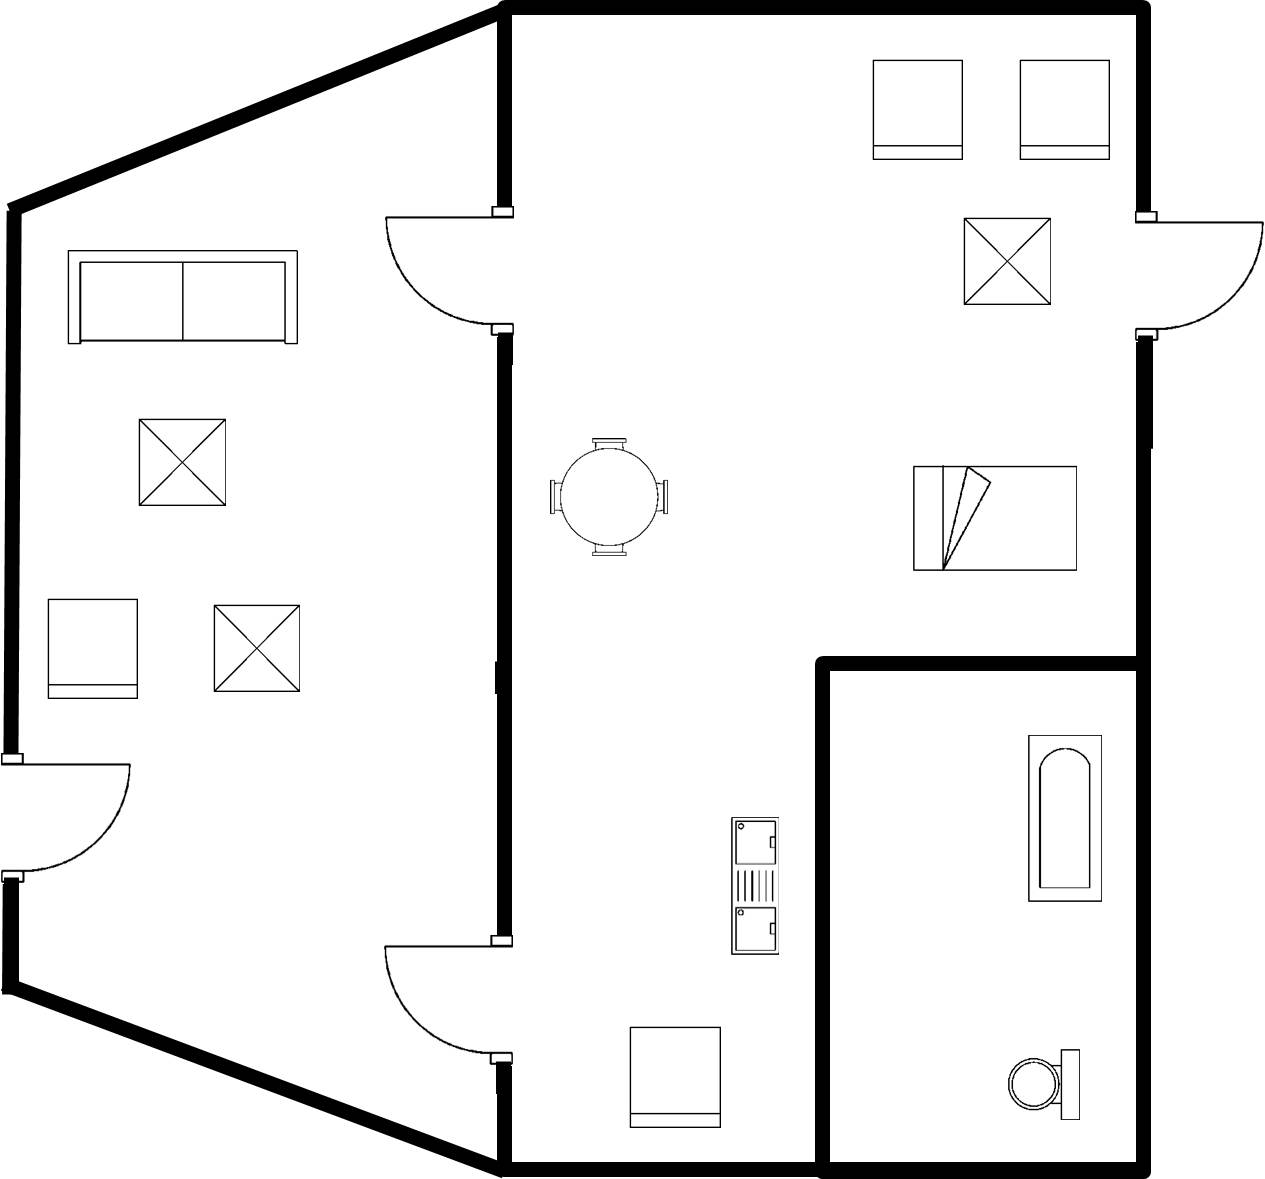bed: (898, 455, 1088, 582)
coffee_table: (950, 203, 1063, 319), (129, 407, 235, 517), (203, 595, 307, 699)
large_sink: (997, 1041, 1090, 1133)
large_sofa: (59, 241, 309, 356)
round_table: (538, 425, 679, 564)
small_sofa: (860, 48, 972, 170), (619, 1017, 731, 1137), (40, 586, 145, 709), (1010, 51, 1119, 168)
tub: (1018, 727, 1113, 914)
twin_sink: (720, 809, 794, 964)
